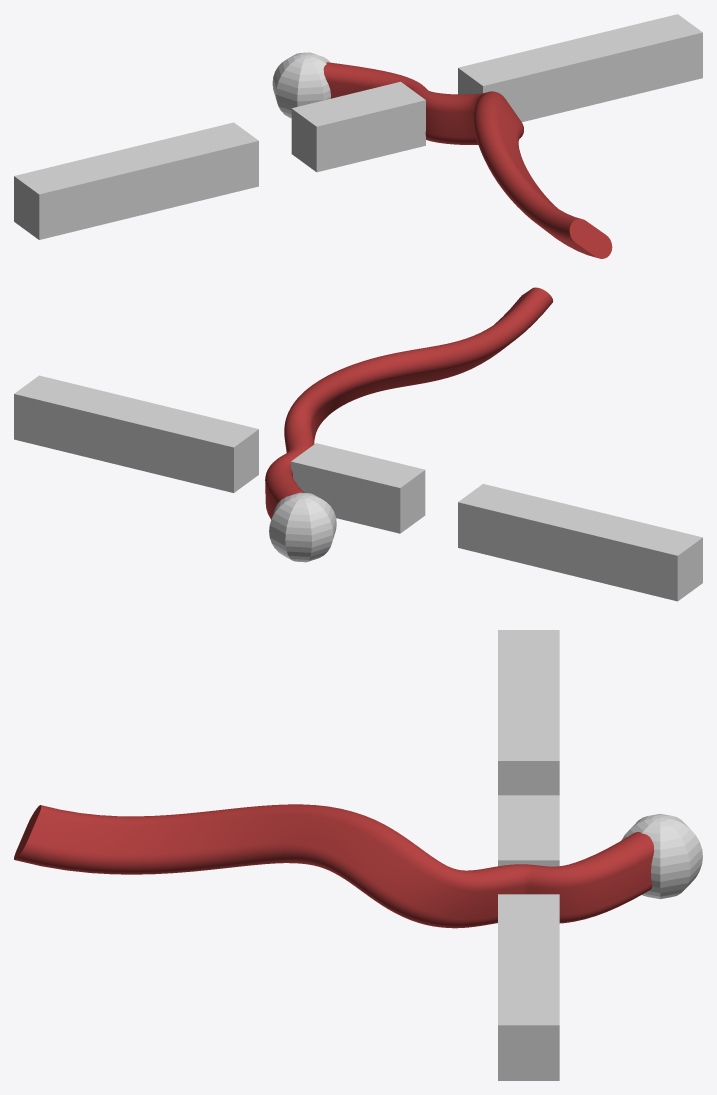
File: PilotWave.glb
3 views of the same model, one above another, from view 1: azimuth 30°, elevation 25°; view 2: azimuth 150°, elevation 25°; view 3: azimuth 270°, elevation 25° (orthographic). The views are drawn at different scales.
Visible parts, largest first — view 1: Barrier, Barrier2, TailOfParticle, Barrier3, Corcupsular; view 2: Barrier, Barrier2, TailOfParticle, Barrier3, Corcupsular; view 3: TailOfParticle, Barrier2, Barrier, Barrier3, Corcupsular.
Boxes of the visible parts, x1,y1,x2,y2 form: Barrier: (14, 122, 258, 239); Barrier2: (458, 14, 702, 122); TailOfParticle: (323, 62, 612, 258); Barrier3: (291, 81, 425, 172); Corcupsular: (272, 52, 330, 118); Barrier: (458, 484, 702, 601); Barrier2: (14, 375, 258, 492); TailOfParticle: (265, 287, 552, 519); Barrier3: (291, 443, 425, 533); Corcupsular: (269, 492, 336, 562); TailOfParticle: (14, 804, 654, 928); Barrier2: (498, 894, 559, 1080); Barrier: (498, 630, 559, 795); Barrier3: (498, 795, 559, 866); Corcupsular: (621, 814, 702, 899).
Bounding box in the file's own units: 6.04 × 0.8141 × 4.45.
